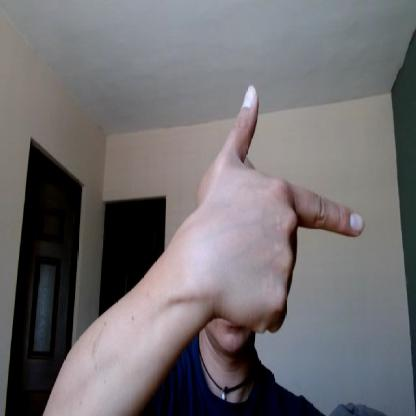G: (195, 84, 366, 336)
